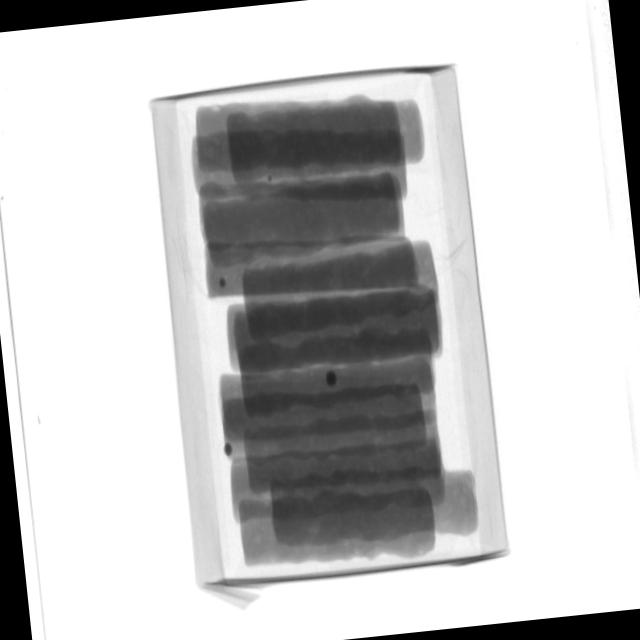ym: (325, 371, 338, 389), (225, 442, 235, 454), (218, 279, 227, 290), (268, 176, 274, 182)
